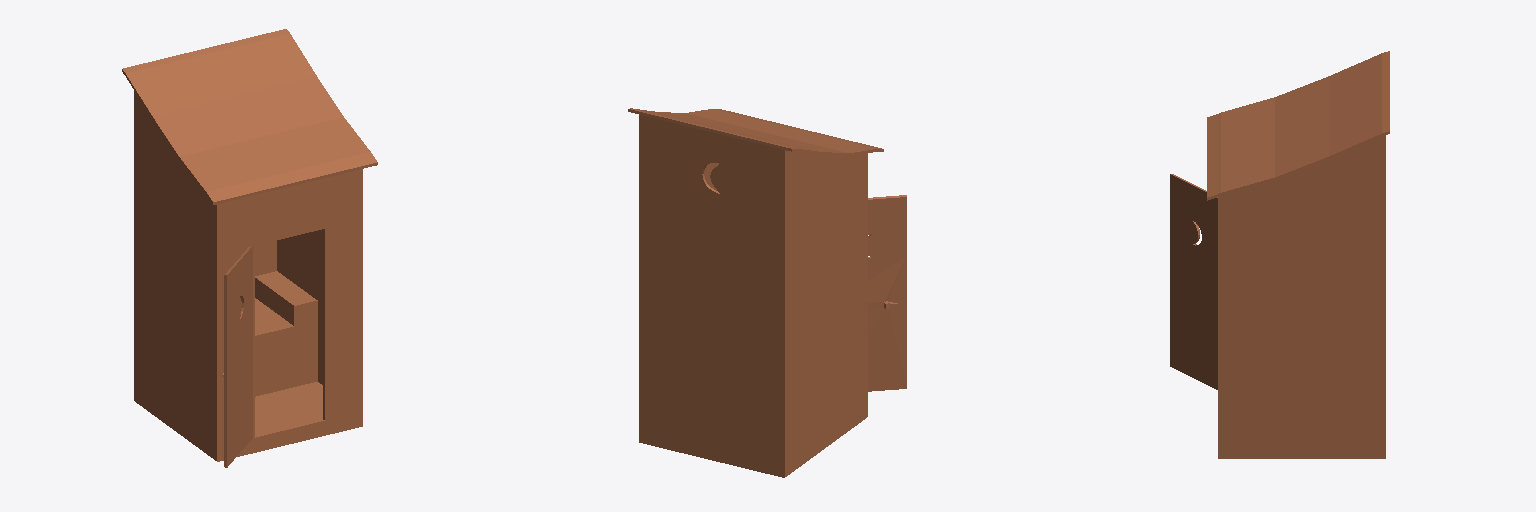
3 renders of one model, left to right at view 1: azimuth 30°, elevation 25°; view 2: azimuth 150°, elevation 25°; view 3: azimuth 270°, elevation 25°, orthographic.
Parts seen in each view (by area): view 1: Bath_Door; view 2: Bath_Door; view 3: Bath_Door.
Boxes of the visible parts, box(x1,y1,x2,y2) form: Bath_Door: box(122, 29, 377, 467); Bath_Door: box(628, 108, 906, 477); Bath_Door: box(1170, 51, 1389, 458).
Size of the model in its own units: 5.78 by 10.77 by 6.43.
Materials: 1 (1 with a texture image).